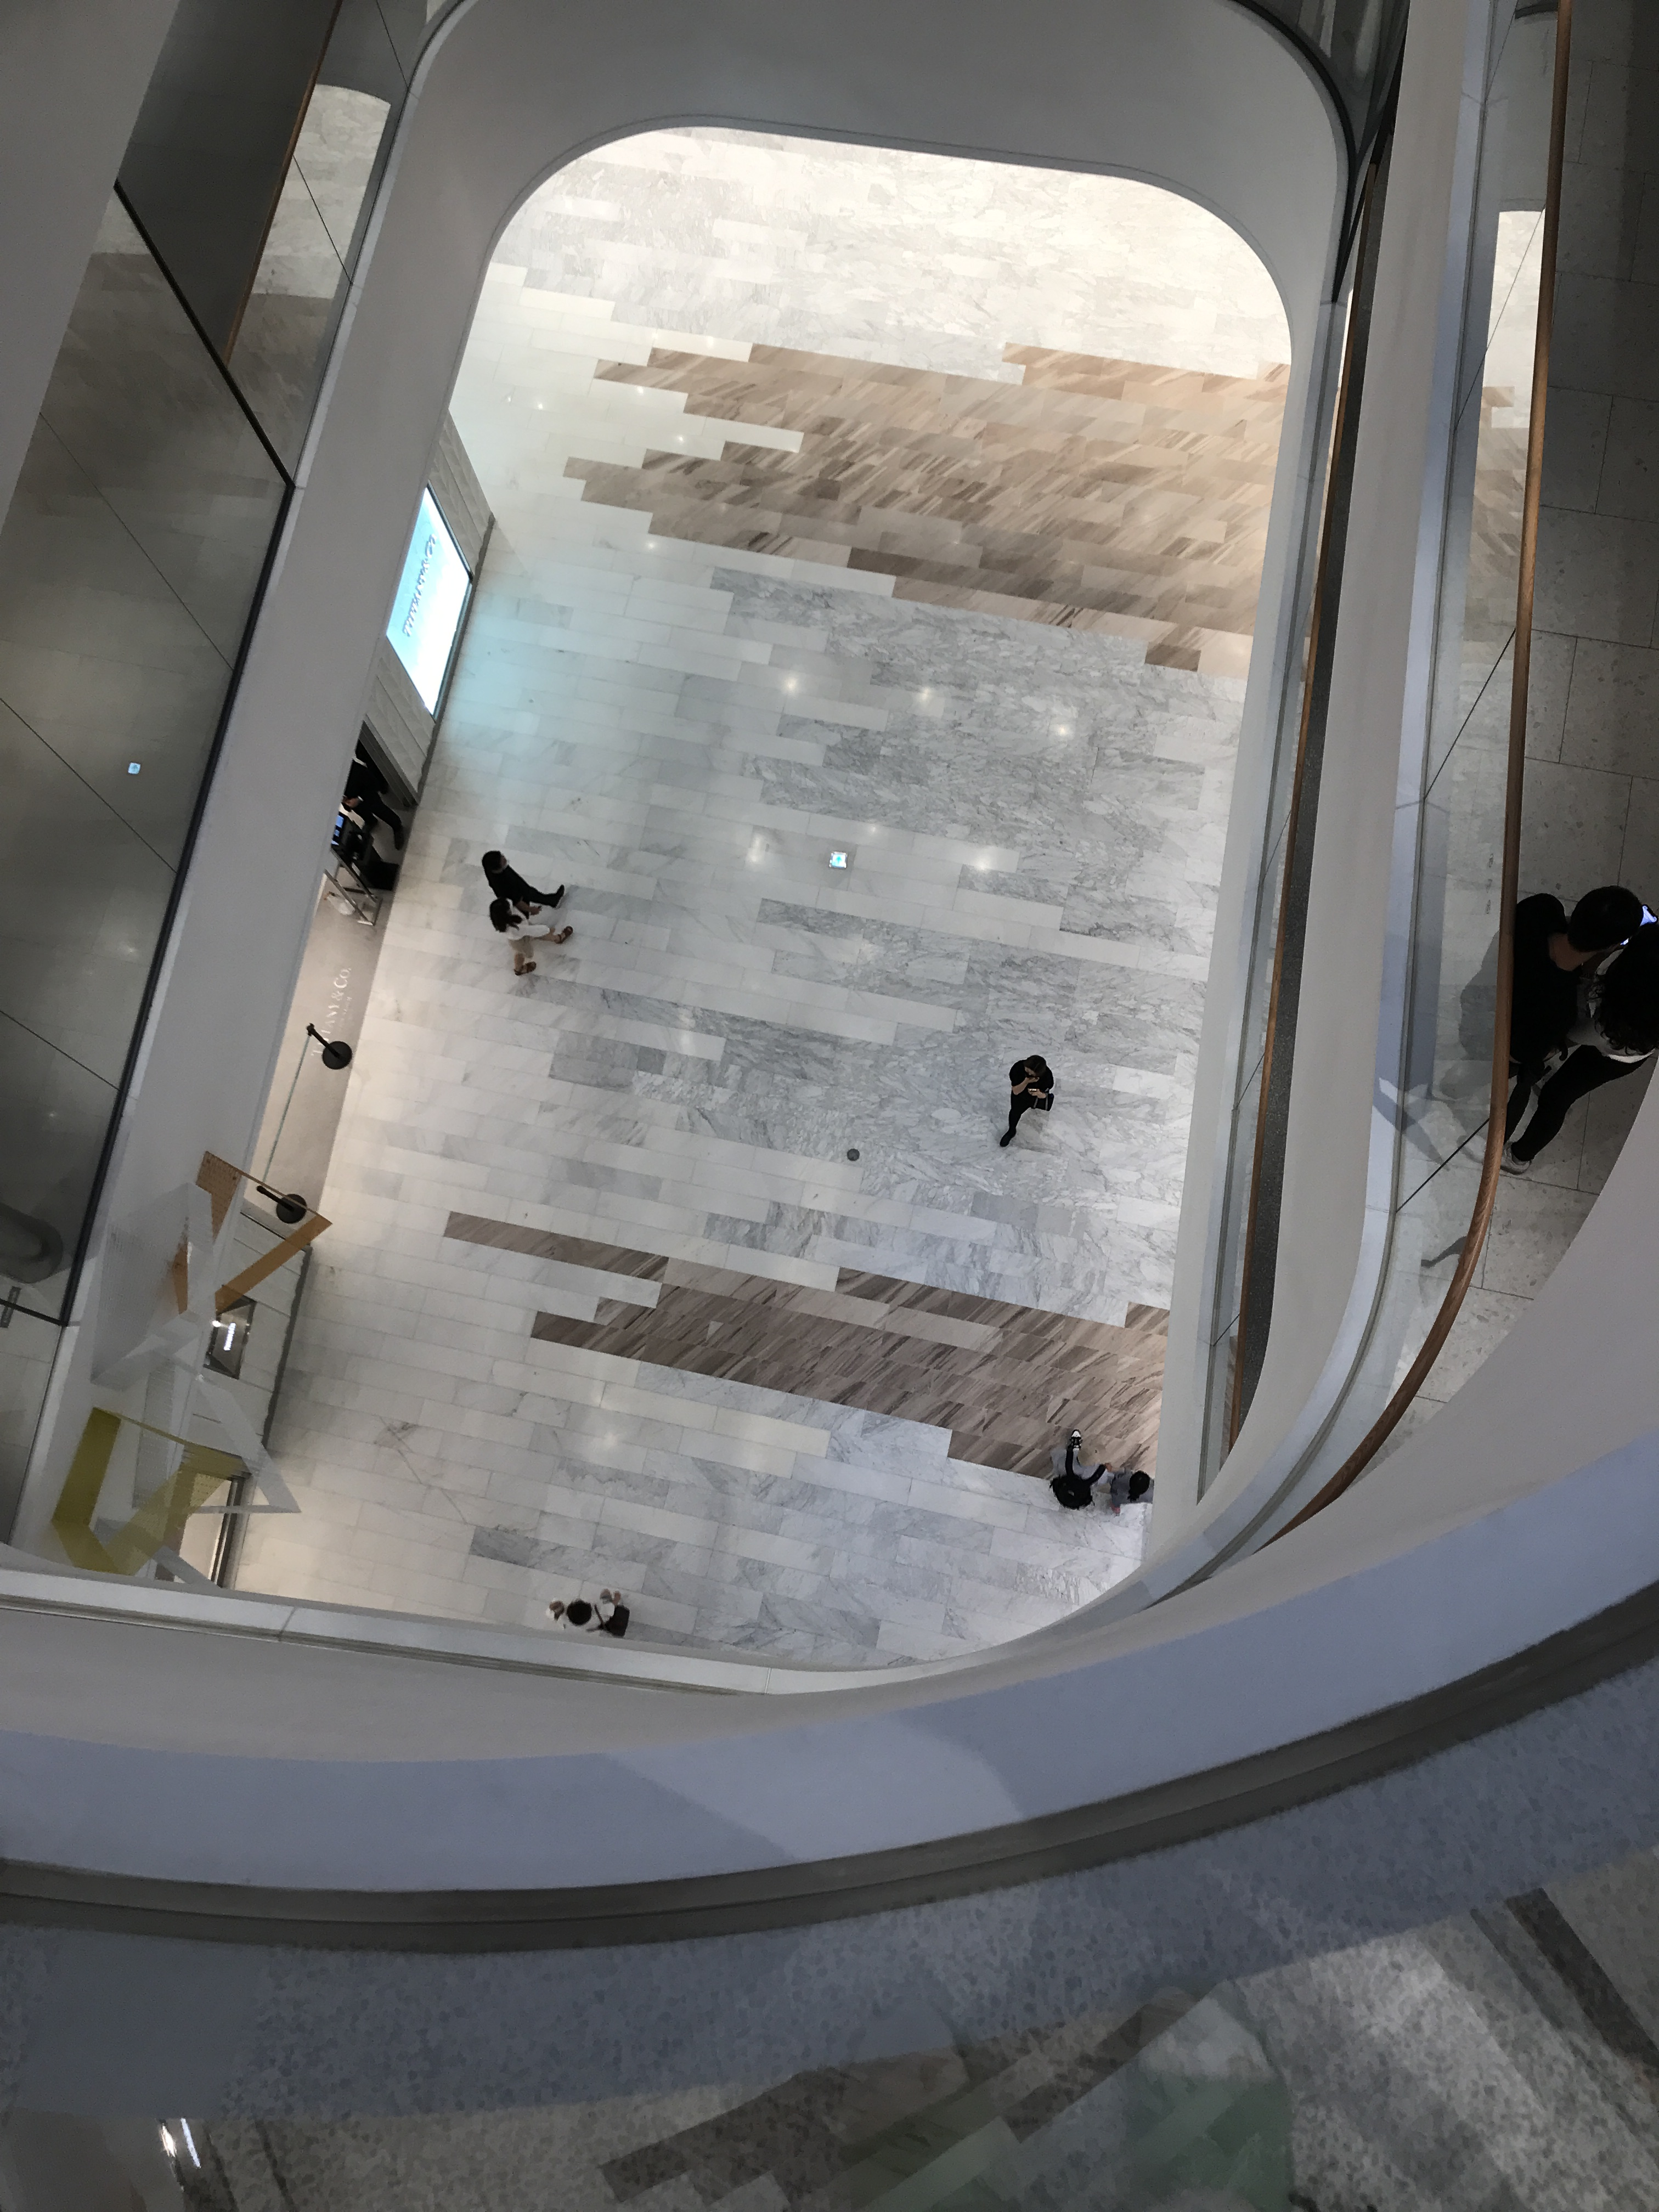person: (1443, 883, 1641, 1155), (1457, 921, 1659, 1175), (489, 893, 575, 977), (486, 848, 562, 922), (999, 1053, 1049, 1154), (1048, 1436, 1104, 1510), (546, 1587, 629, 1638), (1109, 1469, 1154, 1520)
